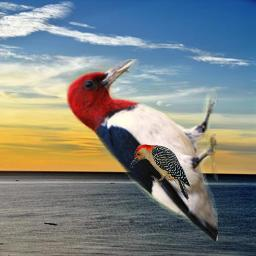Woodpecker: (64, 59, 218, 241), (130, 144, 192, 202)
